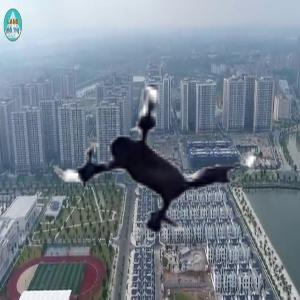drone: (42, 37, 273, 268)
